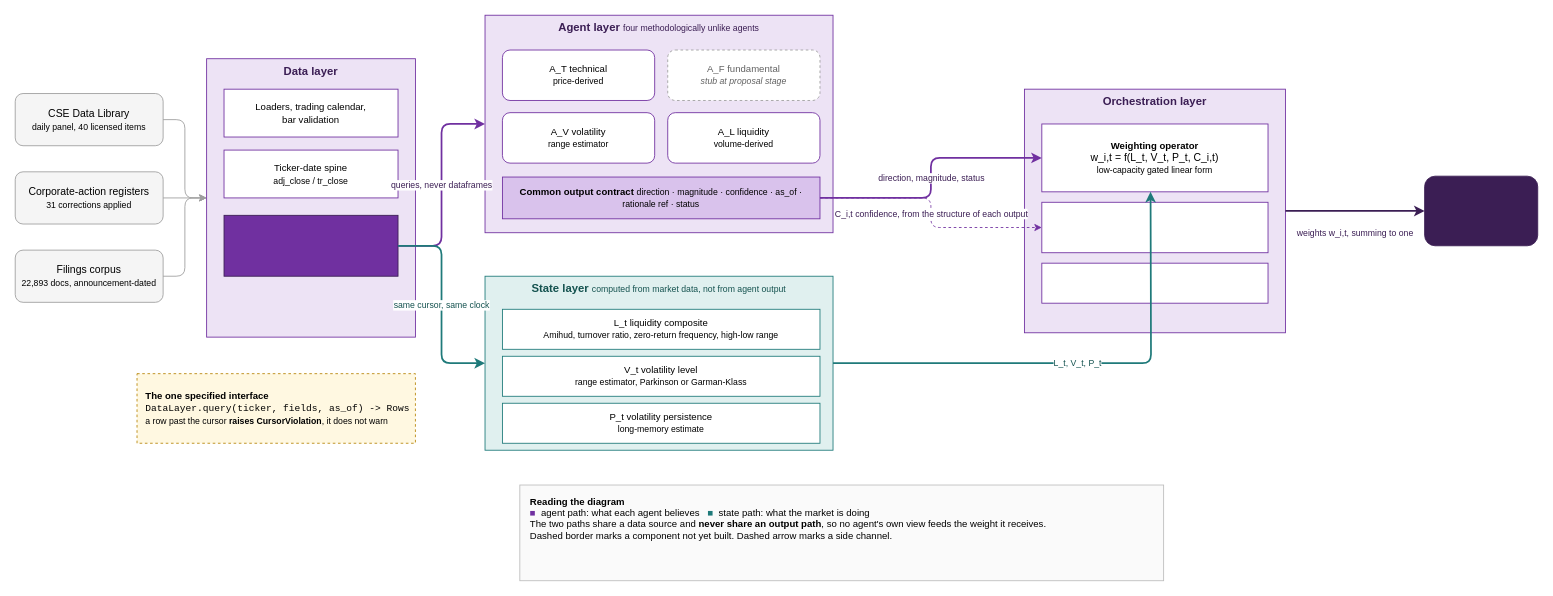
This 1553x596 diagram has some shape labels left out. Each missing label, with the centre of its shape:
Abstention floor influence falls to a floor when a channel is absent: point (1154, 227)
as-of cursor every query filtered to the simulation clock: point (310, 245)
Liquidity-to-reliability coupling: point (1154, 282)
One shared decision per ticker-date: point (1481, 210)
